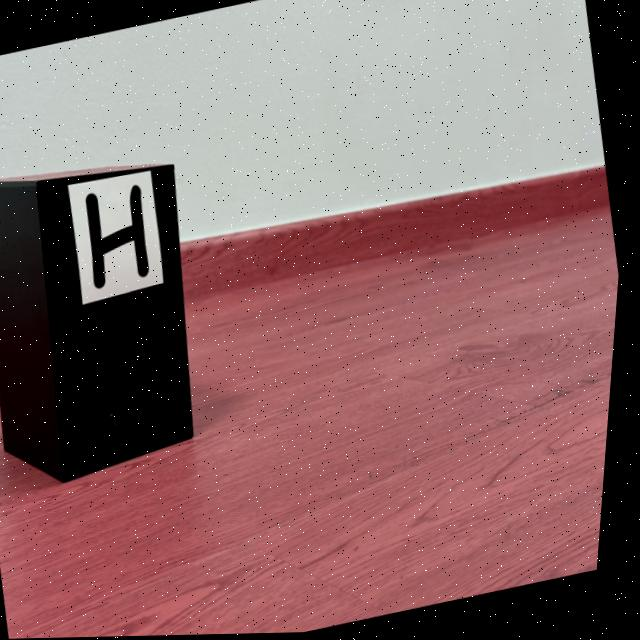H: (89, 185, 154, 289)
